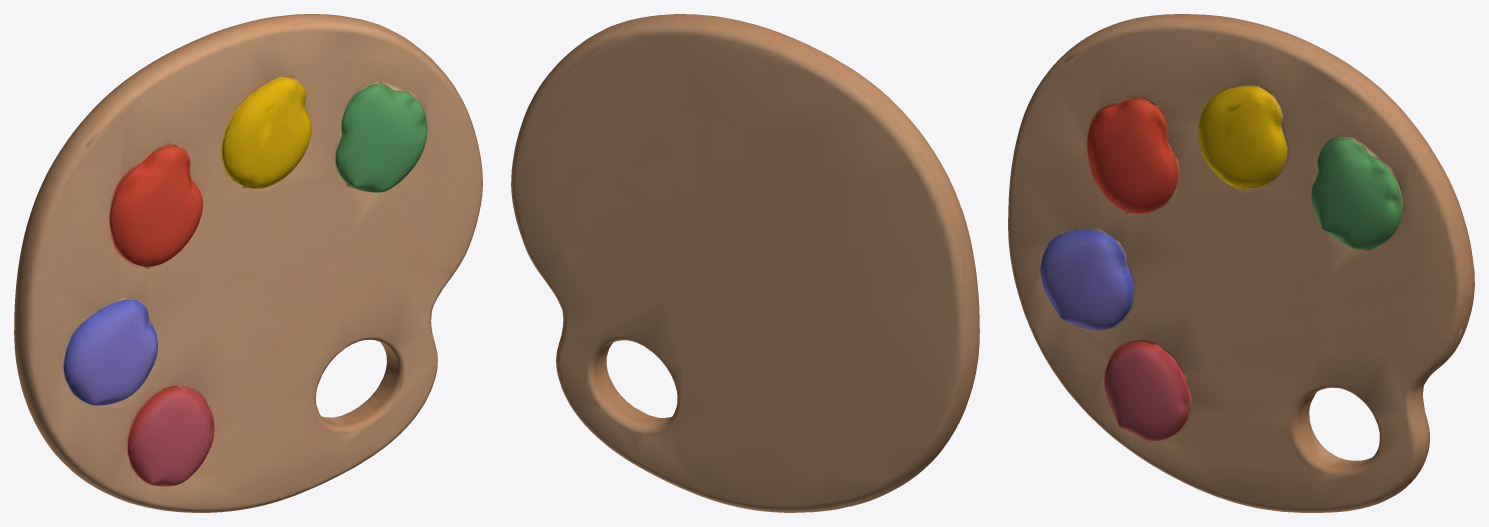
File: palette.glb
3 views of the same model, side by side, from view 1: azimuth 30°, elevation 25°; view 2: azimuth 150°, elevation 25°; view 3: azimuth 330°, elevation 25° (orthographic).
Visible parts, largest first — view 1: Mesh_0; view 2: Mesh_0; view 3: Mesh_0.
Part boxes in pixels (left/top/right/bottom): Mesh_0: left=14, top=14, right=482, bottom=512; Mesh_0: left=511, top=14, right=979, bottom=512; Mesh_0: left=1008, top=14, right=1474, bottom=512.
Bounding box in the file's own units: 1.14 × 1.14 × 0.1052.
1 material, 1 textured.
